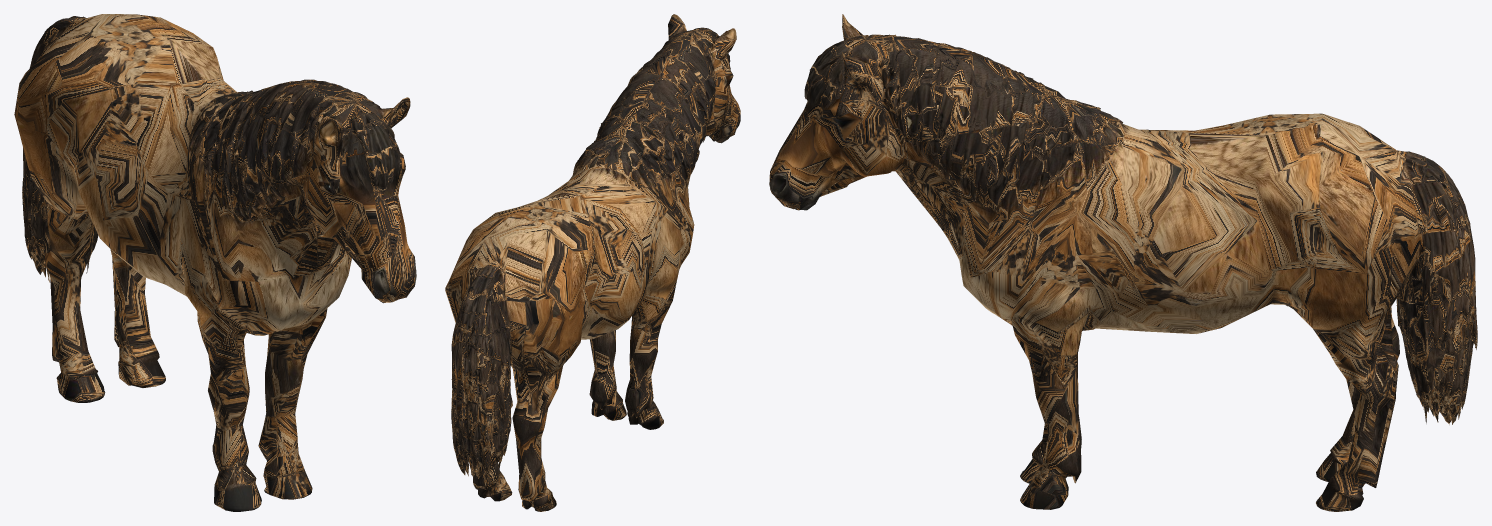
File: pony.glb
3 views of the same model, side by side, from view 1: azimuth 30°, elevation 25°; view 2: azimuth 150°, elevation 25°; view 3: azimuth 270°, elevation 25° (orthographic). The views are drawn at different scales.
Bounding box in the file's own units: 0.5355 × 1.34 × 1.89.
1 material, 1 textured.
